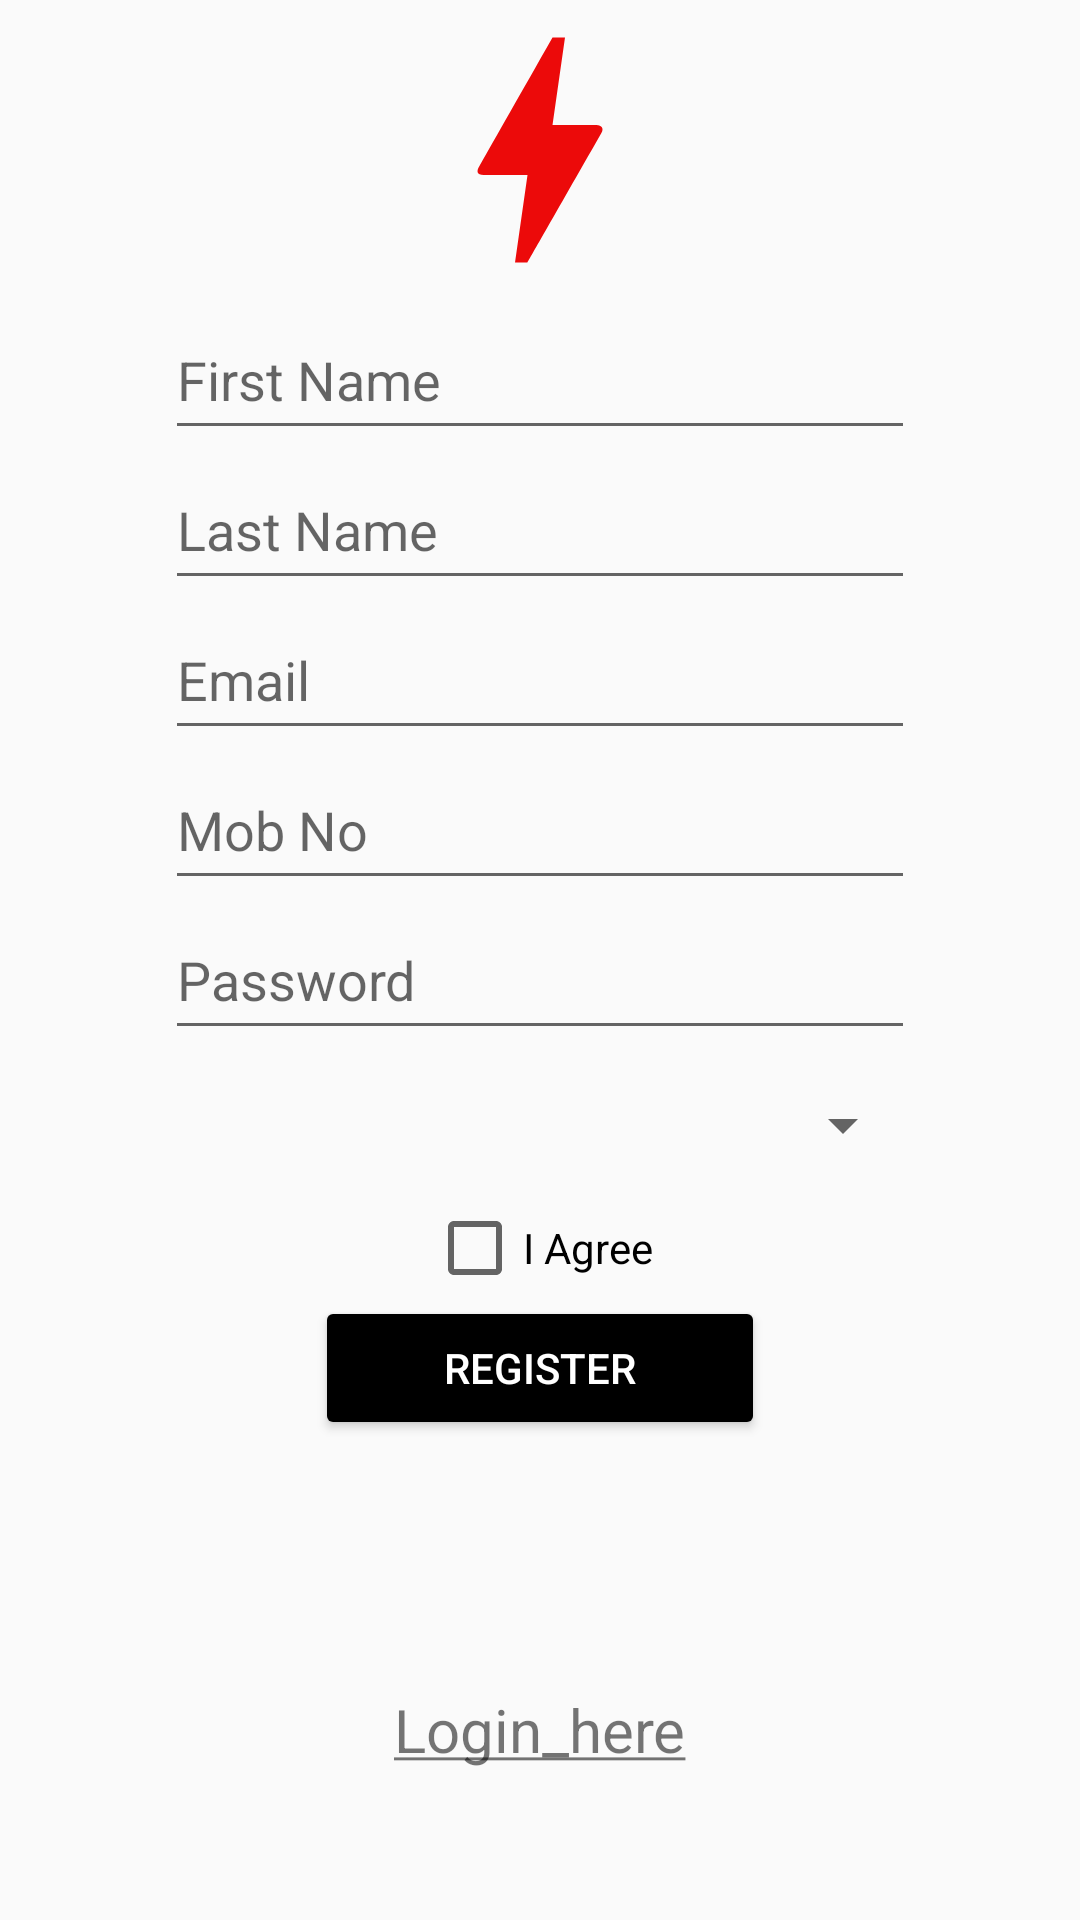

Point at icon controls on the screen. Image size 1080px×1920px, points as (x,y).
bolt: (540,150)
